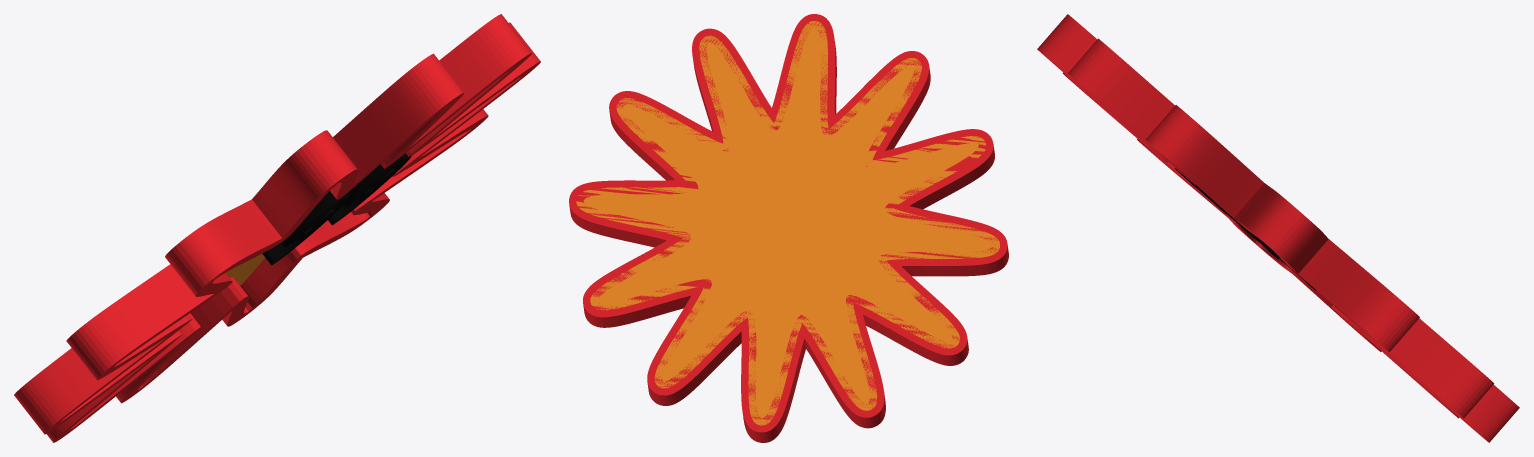
The model's file is red_eyes_sun.glb.
The picture shows the model from 3 angles, left to right: view 1: azimuth 30°, elevation 25°; view 2: azimuth 150°, elevation 25°; view 3: azimuth 270°, elevation 25°; orthographic projection. The views are drawn at different scales.
Parts seen in each view (by area): view 1: Curve.209; view 2: Curve.209; view 3: Curve.209.
Part boxes in pixels (<box>): Curve.209: <box>14,14,540,442</box>; Curve.209: <box>569,14,1008,442</box>; Curve.209: <box>1037,14,1519,442</box>.
Size of the model in its own units: 0.2429 by 0.2015 by 0.2069.
